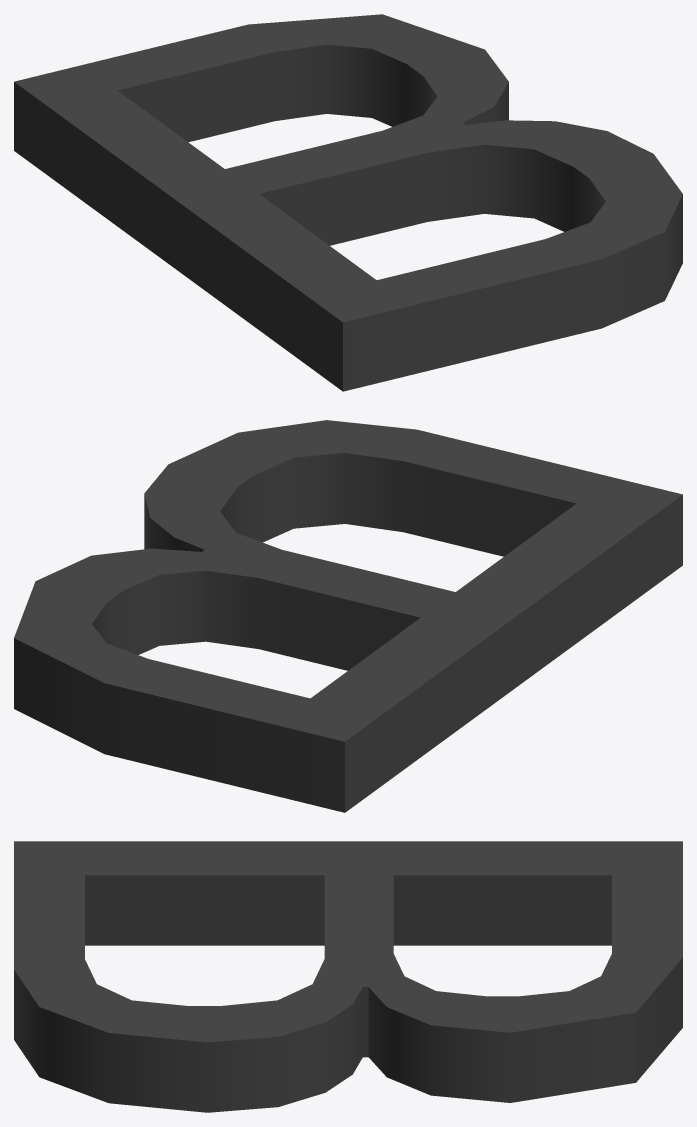
The picture shows the model from 3 angles, top to bottom: view 1: azimuth 30°, elevation 25°; view 2: azimuth 150°, elevation 25°; view 3: azimuth 270°, elevation 25°; orthographic projection. The views are drawn at different scales.
Visible parts, largest first — view 1: B; view 2: B; view 3: B.
Boxes of the visible parts, bbox=[...] form: B: bbox=[14, 14, 682, 391]; B: bbox=[14, 420, 682, 812]; B: bbox=[14, 841, 682, 1112].
Size of the model in its own units: 0.1541 by 0.0251 by 0.2165.
